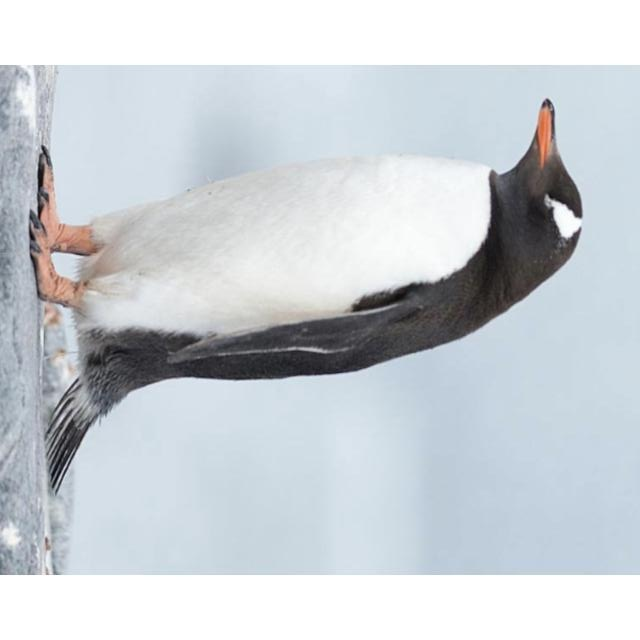penguin: (28, 98, 583, 493)
